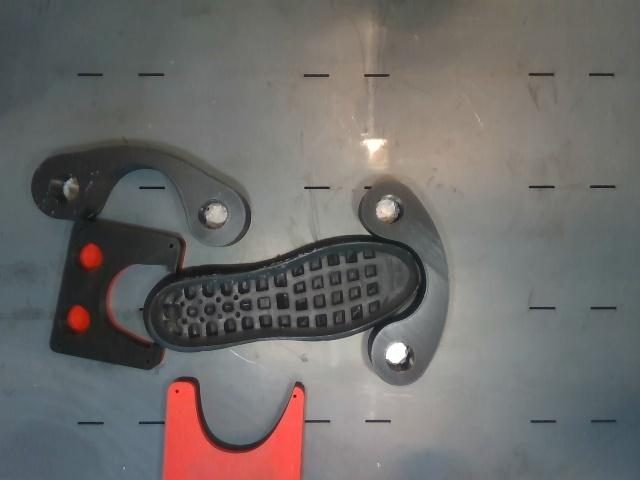shoes: (150, 243, 420, 347)
